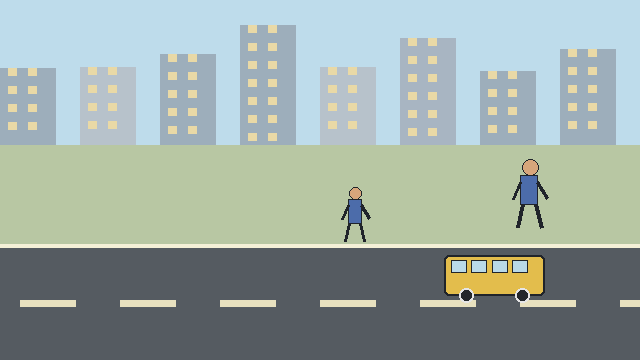bus: (444, 255, 544, 302)
person: (513, 159, 549, 229), (342, 187, 370, 242)
